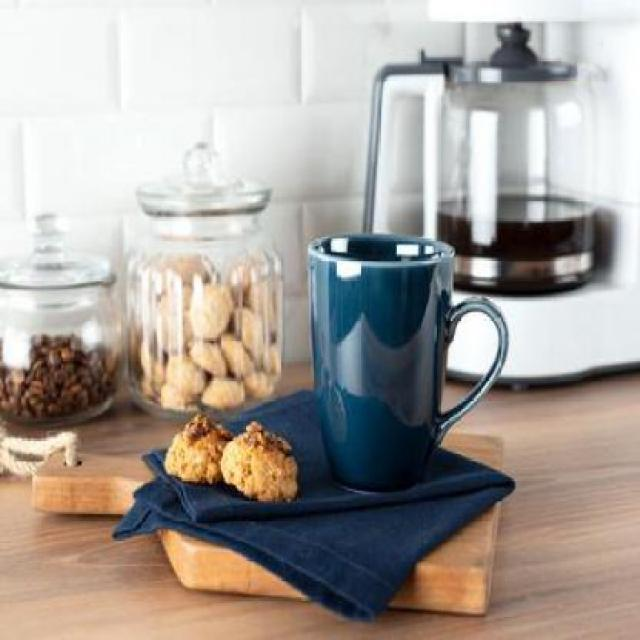taza: (306, 227, 509, 494)
